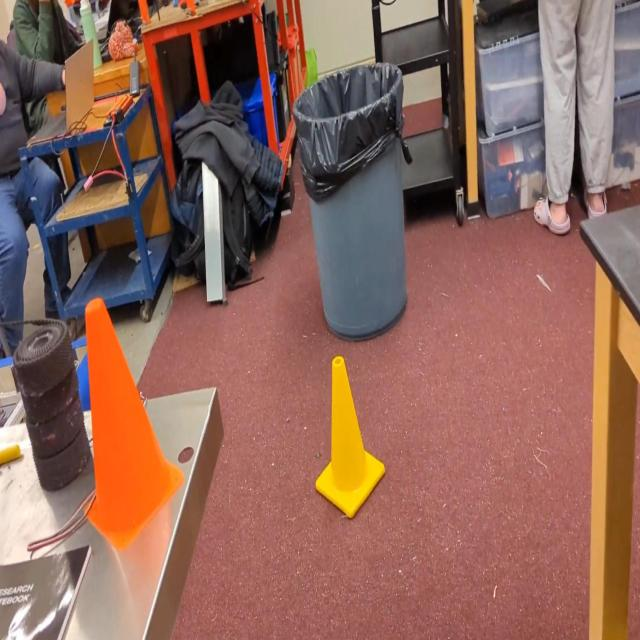frc_cone: (313, 356, 386, 524)
